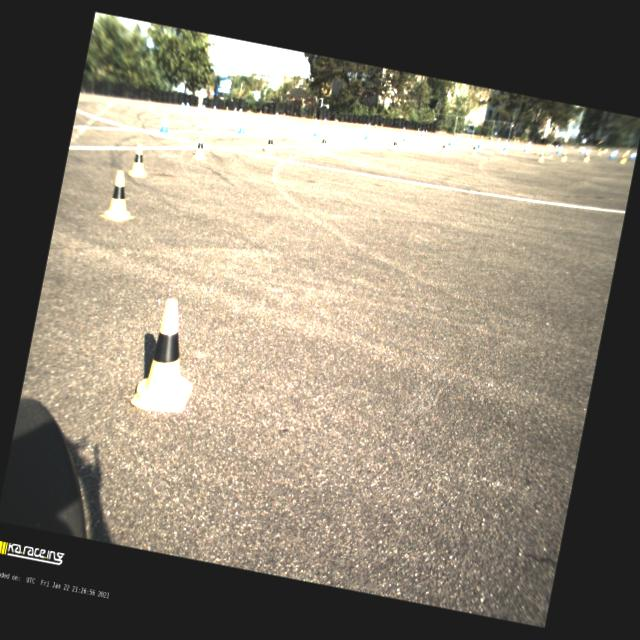blue_cone: (160, 115, 172, 134), (238, 118, 248, 134), (312, 125, 320, 136), (364, 128, 371, 140), (402, 131, 409, 142), (448, 136, 455, 147), (477, 139, 483, 149), (420, 130, 426, 138), (274, 113, 280, 121), (524, 144, 529, 153), (556, 146, 561, 155), (232, 108, 238, 115), (503, 142, 508, 150), (549, 144, 553, 152), (458, 134, 462, 141), (363, 123, 367, 130), (580, 148, 584, 154), (609, 153, 613, 159), (630, 154, 634, 160), (182, 103, 186, 109), (202, 105, 206, 111), (314, 118, 318, 124), (402, 127, 406, 131), (497, 138, 500, 143), (368, 123, 371, 128), (439, 132, 442, 136), (187, 104, 190, 108), (214, 106, 216, 112), (238, 108, 240, 114), (468, 134, 470, 139), (324, 118, 326, 123)
yellow_cone: (130, 295, 208, 418), (100, 168, 142, 224), (128, 142, 152, 178), (192, 134, 211, 160), (264, 134, 278, 154), (320, 133, 330, 151), (390, 138, 400, 152), (440, 140, 449, 154), (471, 142, 479, 156), (538, 150, 546, 162), (561, 151, 567, 162), (584, 152, 590, 162), (224, 106, 230, 114), (620, 156, 625, 164), (333, 118, 338, 125), (424, 130, 428, 138), (516, 140, 520, 147), (374, 125, 378, 132), (470, 135, 474, 142), (597, 149, 601, 155), (336, 120, 340, 126), (381, 124, 384, 130), (417, 128, 420, 134), (513, 140, 516, 144), (259, 112, 262, 116), (283, 114, 286, 118), (456, 133, 458, 138)
